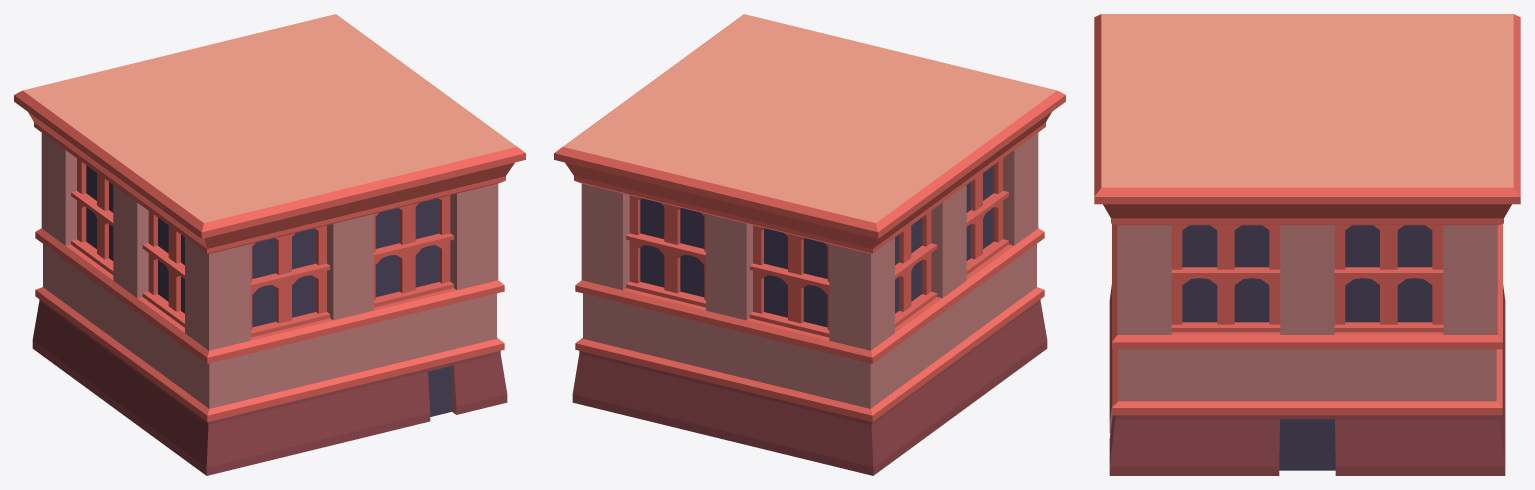
The model's file is square building r.fbx.
3 renders of one model, left to right at view 1: azimuth 30°, elevation 25°; view 2: azimuth 150°, elevation 25°; view 3: azimuth 270°, elevation 25°, orthographic. The views are drawn at different scales.
Parts seen in each view (by area): view 1: pCube1, pCube2, pCube3; view 2: pCube1, pCube2, pCube3; view 3: pCube1, pCube3.
Part boxes in pixels (left/top/right/bottom): pCube1: left=14, top=14, right=525, bottom=475; pCube2: left=250, top=195, right=453, bottom=337; pCube3: left=71, top=158, right=184, bottom=327; pCube1: left=554, top=14, right=1065, bottom=475; pCube2: left=626, top=195, right=829, bottom=337; pCube3: left=895, top=158, right=1008, bottom=327; pCube1: left=1094, top=14, right=1520, bottom=475; pCube3: left=1171, top=225, right=1443, bottom=332.
Size of the model in its own units: 16.05 by 12.15 by 16.09.
